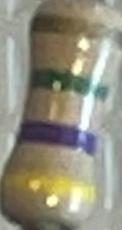Blue: (13, 119, 96, 158)
Green: (27, 64, 109, 105)
Side-Silver: (32, 12, 121, 54)
Yellow: (0, 168, 98, 209)
